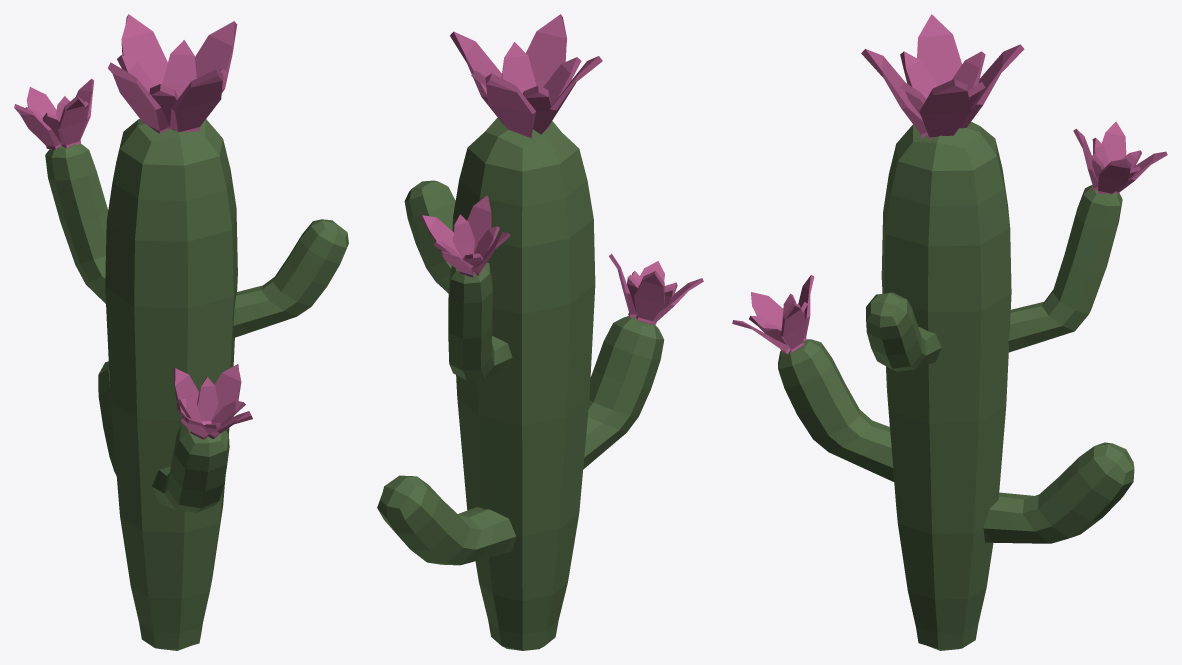
The model's file is cactus_flowers_2.glb.
3 views of the same model, side by side, from view 1: azimuth 30°, elevation 25°; view 2: azimuth 150°, elevation 25°; view 3: azimuth 270°, elevation 25° (orthographic).
Visible parts, largest first — view 1: cactus_flowers_2; view 2: cactus_flowers_2; view 3: cactus_flowers_2.
Part boxes in pixels (<box>): cactus_flowers_2: <box>14,14,348,650</box>; cactus_flowers_2: <box>377,14,703,650</box>; cactus_flowers_2: <box>732,14,1167,650</box>.
Bounding box in the file's own units: 0.7654 × 1.94 × 1.28.
Materials: 1 (1 with a texture image).
